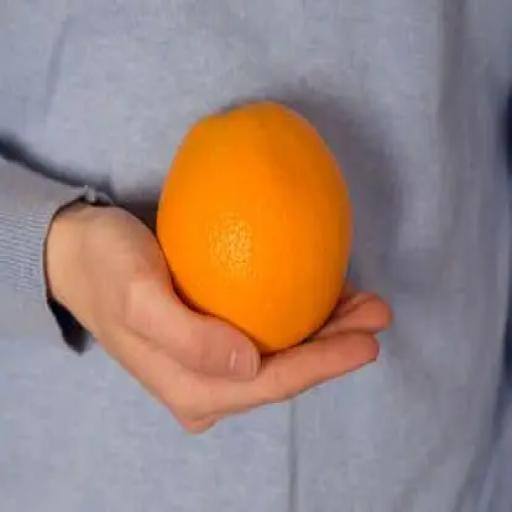orange: (158, 101, 351, 353)
